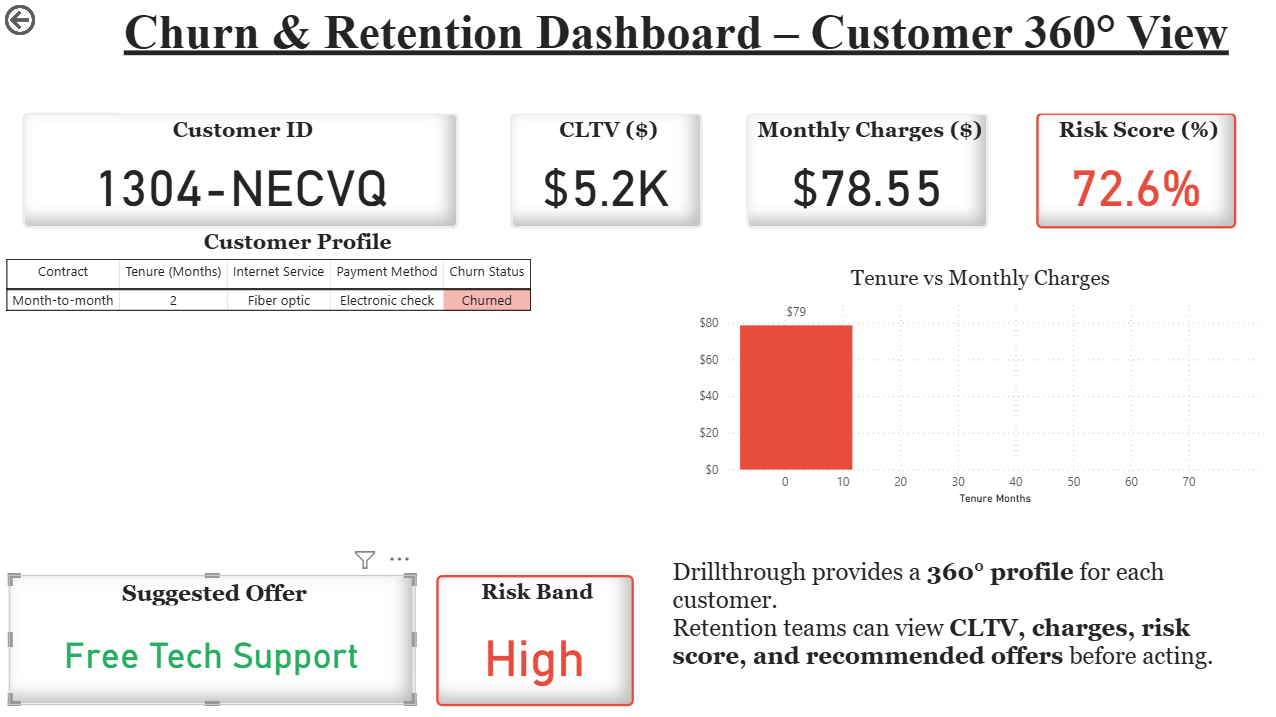

Layout of this report page (visuals, bound fields, positions):
{"tool":"powerbi","page":{"name":"Customer Details","canvas":[1280,720],"ordinal":4},"visuals":[{"type":"actionButton","box":[0,0,100,40],"z":0},{"type":"card","title":"Customer ID","fields":{"Values":["ibm_telco_scored.Customer ID (Drill)"]},"box":[22.5,112.5,436.2,116.2],"z":1000},{"type":"card","title":"CLTV ($)","fields":{"Values":["ibm_telco_scored.CLTV (per customer)"]},"box":[510,112.5,192.5,116.2],"z":2000},{"type":"card","title":"Monthly Charges ($)","fields":{"Values":["ibm_telco_scored.Monthly Charges (per customer)"]},"box":[746.2,112.5,242.5,116.2],"z":3000},{"type":"card","title":"Risk Score (%)","fields":{"Values":["ibm_telco_scored.Risk Score (per customer)"]},"box":[1036.2,112.5,200,116.2],"z":4000},{"type":"card","title":"Risk Band","fields":{"Values":["ibm_telco_scored.Risk Band (Drill)"]},"box":[436.2,575,197.5,131.2],"z":5000},{"type":"actionButton","box":[0,0,100,40],"z":6000},{"type":"actionButton","box":[0,0,100,40],"z":7000},{"type":"actionButton","box":[0,0,100,40],"z":8000},{"type":"tableEx","title":"Customer Profile","fields":{"Values":["ibm_telco_scored.contract","ibm_telco_scored.tenure_months","ibm_telco_scored.internet_service","ibm_telco_scored.payment_method","ibm_telco_scored.Churn Status"]},"box":[0,229.9,595.5,322.8],"z":9000},{"type":"clusteredColumnChart","title":"Tenure vs Monthly Charges","fields":{"Category":["ibm_telco_scored.tenure_months"],"Y":["Avg(ibm_telco_scored.monthly_charges)"]},"box":[693.3,266.6,573.5,243.3],"z":10000},{"type":"card","title":"Suggested Offer","fields":{"Values":["ibm_telco_scored.Retention Offer"]},"box":[8.8,575,406.2,130],"z":11000},{"type":"textbox","box":[667.7,552.7,585.7,150.4],"z":12000},{"type":"textbox","box":[118.8,0,1150,113.8],"z":13000}]}

Visuals, with their boxes in screenshot pixels (x1, y1, x2, y2), scaled from the page's 1280x720 canvas onto the 1276x717 screenshot:
actionButton: locate(0, 0, 100, 40)
"Customer ID" card: locate(22, 112, 457, 228)
"CLTV ($)" card: locate(508, 112, 700, 228)
"Monthly Charges ($)" card: locate(744, 112, 986, 228)
"Risk Score (%)" card: locate(1033, 112, 1232, 228)
"Risk Band" card: locate(435, 573, 632, 703)
actionButton: locate(0, 0, 100, 40)
actionButton: locate(0, 0, 100, 40)
actionButton: locate(0, 0, 100, 40)
"Customer Profile" tableEx: locate(0, 229, 594, 550)
"Tenure vs Monthly Charges" clusteredColumnChart: locate(691, 265, 1263, 508)
"Suggested Offer" card: locate(9, 573, 414, 702)
textbox: locate(666, 550, 1249, 700)
textbox: locate(118, 0, 1265, 113)
